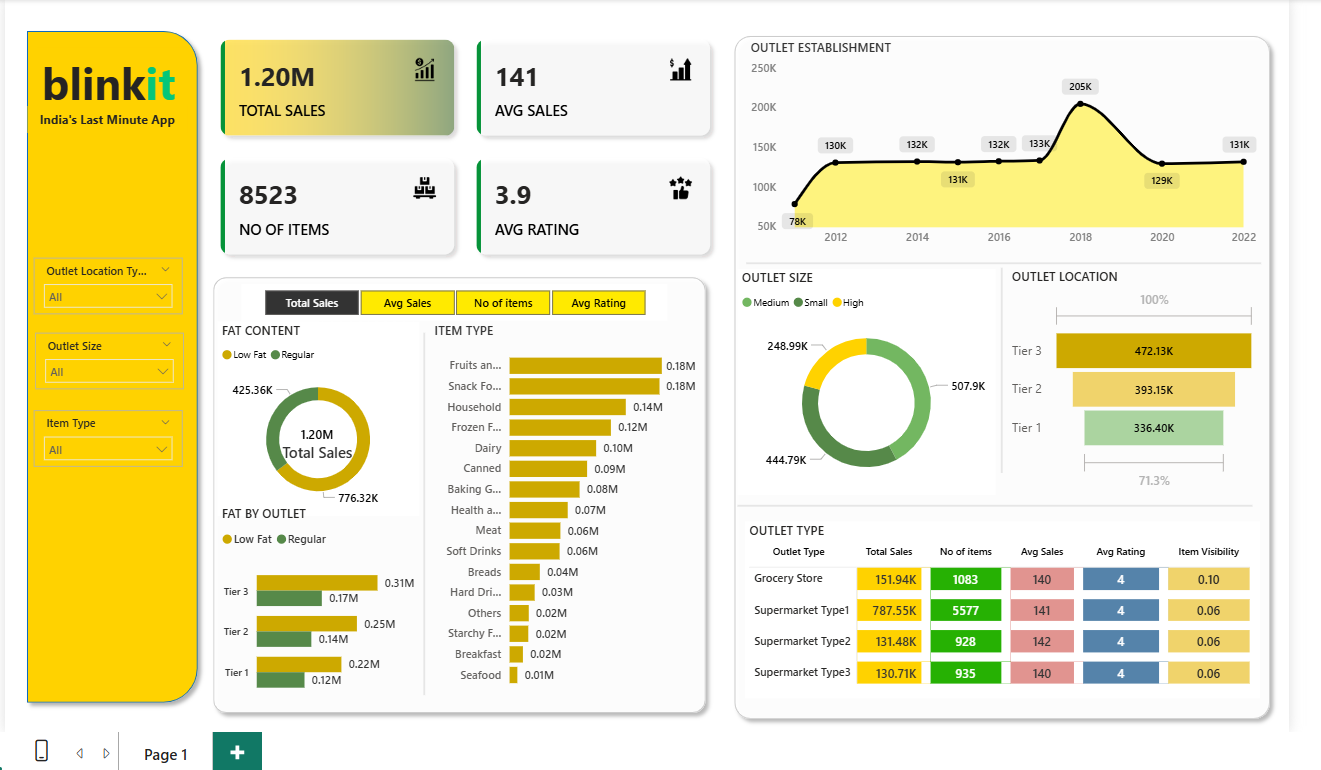

The dashboard page shown, as its layout file describes it:
{"tool":"powerbi","page":{"name":"Page 1","canvas":[1400,800],"ordinal":0},"visuals":[{"type":"shape","box":[15,25.5,204.1,750.4],"z":0},{"type":"textbox","box":[36,52.5,162.1,79.5],"z":1000},{"type":"textbox","box":[24,117.1,174.1,28.5],"z":2000},{"type":"cardVisual","fields":{"Data":["BlinkIT Grocery Data.Total Sales","BlinkIT Grocery Data.Avg Sales","BlinkIT Grocery Data.No of items","BlinkIT Grocery Data.Avg Rating"]},"box":[218.5,26.8,568.4,268.1],"z":3000},{"type":"shape","box":[218.5,294.9,555,493.3],"z":4000},{"type":"donutChart","title":"FAT CONTENT","fields":{"Y":["BlinkIT Grocery Data.Total Sales"],"Category":["BlinkIT Grocery Data.Item Fat Content"]},"box":[231.9,351.2,219.8,211.8],"z":5000},{"type":"slicer","fields":{"Values":["Metrics.Metrics"]},"box":[257.4,311,465.1,40.2],"z":6000},{"type":"cardVisual","fields":{"Data":["BlinkIT Grocery Data.Total Sales"]},"box":[285.5,449.1,111.3,65.7],"z":7000},{"type":"clusteredBarChart","title":"FAT BY OUTLET","fields":{"Y":["BlinkIT Grocery Data.Total Sales"],"Series":["BlinkIT Grocery Data.Item Fat Content"],"Category":["BlinkIT Grocery Data.Outlet Location Type"]},"box":[231.9,552.3,219.8,223.9],"z":8000},{"type":"shape","box":[451.7,364.6,12.1,395.4],"z":9000},{"type":"barChart","title":"ITEM TYPE","fields":{"Y":["BlinkIT Grocery Data.Total Sales"],"Category":["BlinkIT Grocery Data.Item Type"]},"box":[463.8,351.2,294.9,408.8],"z":10000},{"type":"shape","box":[786.9,30.8,601.9,762.7],"z":11000},{"type":"lineChart","title":"OUTLET ESTABLISHMENT","fields":{"Category":["BlinkIT Grocery Data.Outlet Establishment Year"],"Y":["BlinkIT Grocery Data.Total Sales"]},"box":[808.3,44.2,561.7,234.6],"z":12000},{"type":"shape","box":[808.3,282.8,561.7,12.1],"z":13000},{"type":"donutChart","title":"OUTLET SIZE","fields":{"Y":["BlinkIT Grocery Data.Total Sales"],"Category":["BlinkIT Grocery Data.Outlet Size"]},"box":[798.9,294.9,281.5,246.7],"z":14000},{"type":"shape","box":[1081.8,293.6,12.1,223.9],"z":15000},{"type":"funnel","title":"OUTLET LOCATION","fields":{"Category":["BlinkIT Grocery Data.Outlet Location Type"],"Y":["Sum(BlinkIT Grocery Data.Sales)"]},"box":[1093.8,293.6,276.1,248],"z":16000},{"type":"shape","box":[798.9,545.6,561.7,14.7],"z":17000},{"type":"pivotTable","title":"OUTLET TYPE","fields":{"Rows":["BlinkIT Grocery Data.Outlet Type"],"Values":["BlinkIT Grocery Data.Total Sales","BlinkIT Grocery Data.No of items","BlinkIT Grocery Data.Avg Sales","BlinkIT Grocery Data.Avg Rating","Avg(BlinkIT Grocery Data.Item Visibility)"]},"box":[807,569.7,561.7,193],"z":18000},{"type":"slicer","fields":{"Values":["BlinkIT Grocery Data.Outlet Location Type"]},"box":[30.8,282.8,162.2,61.7],"z":19000},{"type":"slicer","fields":{"Values":["BlinkIT Grocery Data.Outlet Size"]},"box":[32.2,364.6,162.2,61.7],"z":20000},{"type":"slicer","fields":{"Values":["BlinkIT Grocery Data.Item Type"]},"box":[30.8,449.1,162.2,61.7],"z":21000}]}

Visuals, with their boxes on the page's 1400x800 design canvas (x1, y1, x2, y2). These are canvas units, not pixel positions in the 1321x770 screenshot, which may show the page scaled, cropped or inside an application window:
shape: bbox(15, 26, 219, 776)
textbox: bbox(36, 52, 198, 132)
textbox: bbox(24, 117, 198, 146)
cardVisual - BlinkIT Grocery Data.Total Sales x BlinkIT Grocery Data.Avg Sales: bbox(218, 27, 787, 295)
shape: bbox(218, 295, 774, 788)
"FAT CONTENT" donutChart: bbox(232, 351, 452, 563)
slicer - Metrics.Metrics: bbox(257, 311, 722, 351)
cardVisual - BlinkIT Grocery Data.Total Sales: bbox(286, 449, 397, 515)
"FAT BY OUTLET" clusteredBarChart: bbox(232, 552, 452, 776)
shape: bbox(452, 365, 464, 760)
"ITEM TYPE" barChart: bbox(464, 351, 759, 760)
shape: bbox(787, 31, 1389, 794)
"OUTLET ESTABLISHMENT" lineChart: bbox(808, 44, 1370, 279)
shape: bbox(808, 283, 1370, 295)
"OUTLET SIZE" donutChart: bbox(799, 295, 1080, 542)
shape: bbox(1082, 294, 1094, 518)
"OUTLET LOCATION" funnel: bbox(1094, 294, 1370, 542)
shape: bbox(799, 546, 1361, 560)
"OUTLET TYPE" pivotTable: bbox(807, 570, 1369, 763)
slicer - BlinkIT Grocery Data.Outlet Location Type: bbox(31, 283, 193, 344)
slicer - BlinkIT Grocery Data.Outlet Size: bbox(32, 365, 194, 426)
slicer - BlinkIT Grocery Data.Item Type: bbox(31, 449, 193, 511)
